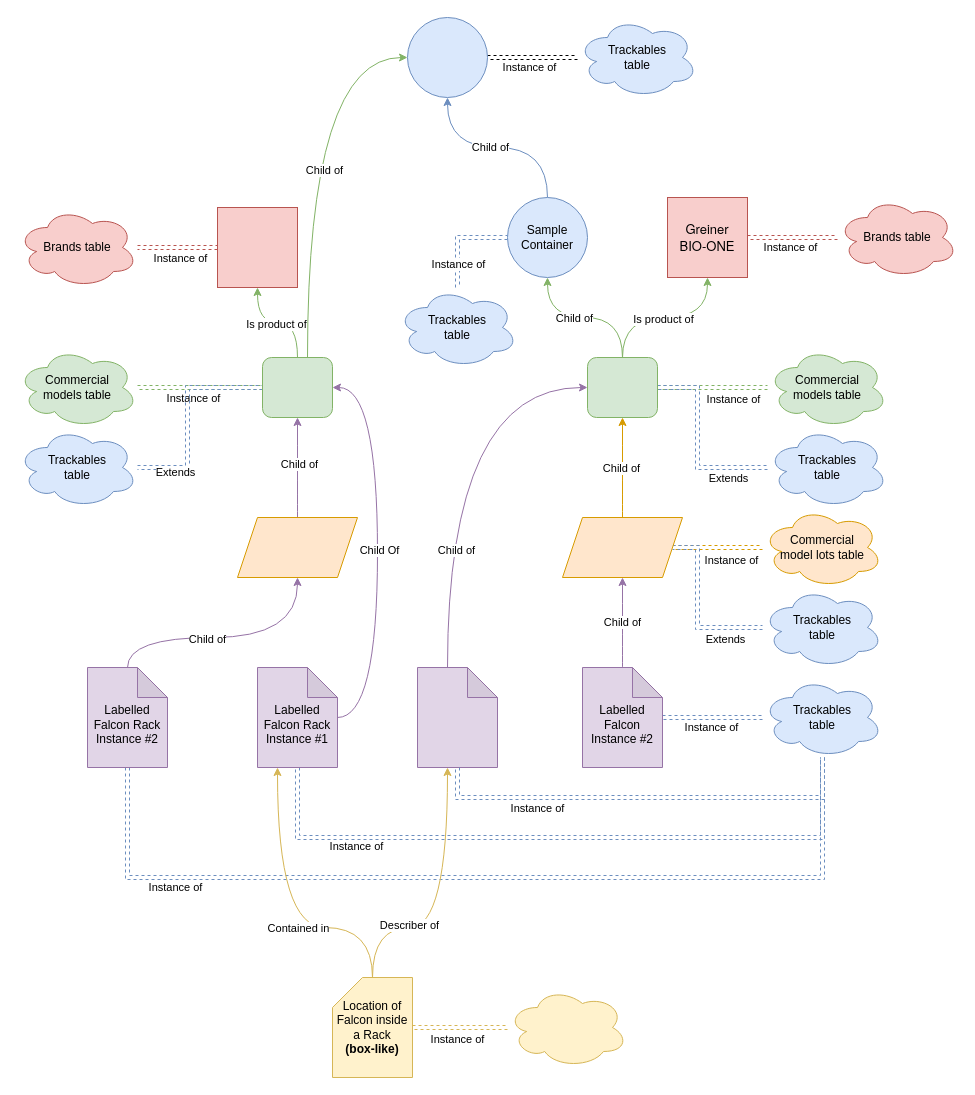
The diagram is 975 pixels wide and 1095 high, and some of its shapes have lost their labels. Here are the shapes that lost their labels. From the top down, the centre of each, then its label:
At point (447, 57): "Container".
At point (257, 247): "Producer of the Rack".
At point (297, 387): "Falcon Rack".
At point (622, 387): "Falcon".
At point (297, 547): "Falcon Rack Batch".
At point (622, 547): "Falcon Batch".
At point (457, 717): "Labelled Falcon Instance #1".
At point (567, 1027): "Trackable Locations Table".
